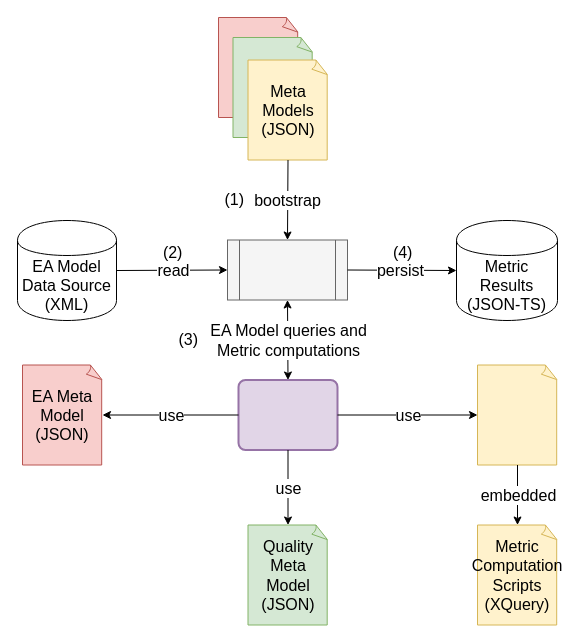
Image size: 580x643. Some labels were removed from this diagram. Each missing label, with the box of its shape:
EA Model Repository: (237, 378, 338, 450)
EAQ Tool: (226, 239, 348, 300)
Metric Data Model (JSON): (476, 364, 558, 465)
